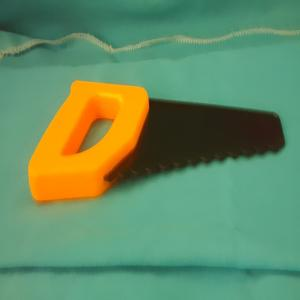serrote: (28, 79, 287, 202)
